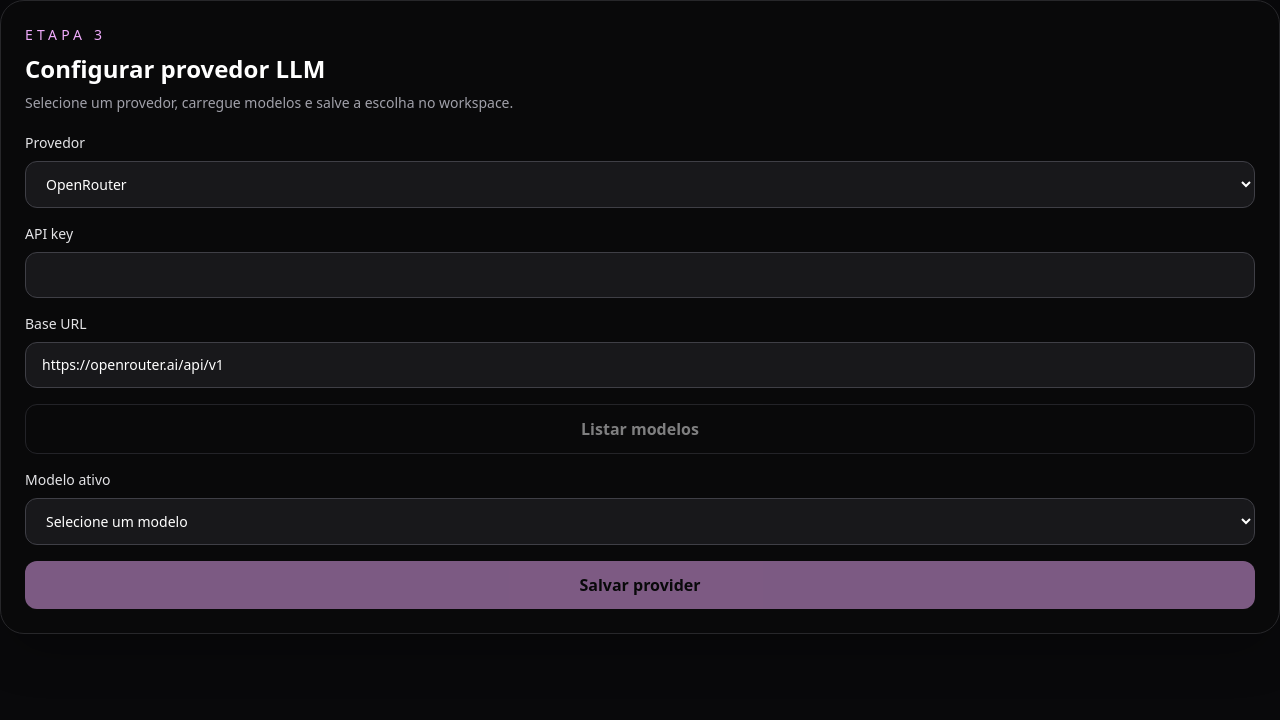
Test case: ProviderPanel › loads models and saves provider config
This screenshot has width=1280, height=720.
In the password field labelled "API key": (640, 275) 25,252 -> 1255,298, type "key"
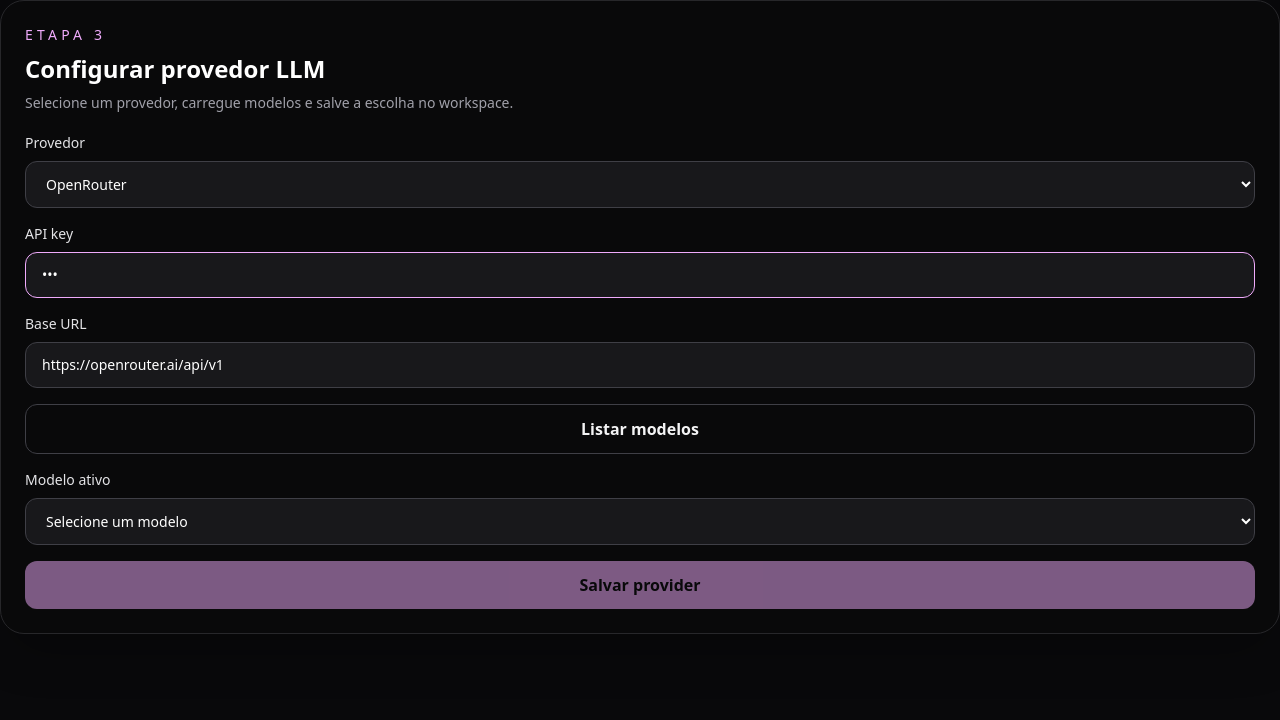
Click the button "Listar modelos": (640, 429) 25,404 -> 1255,454
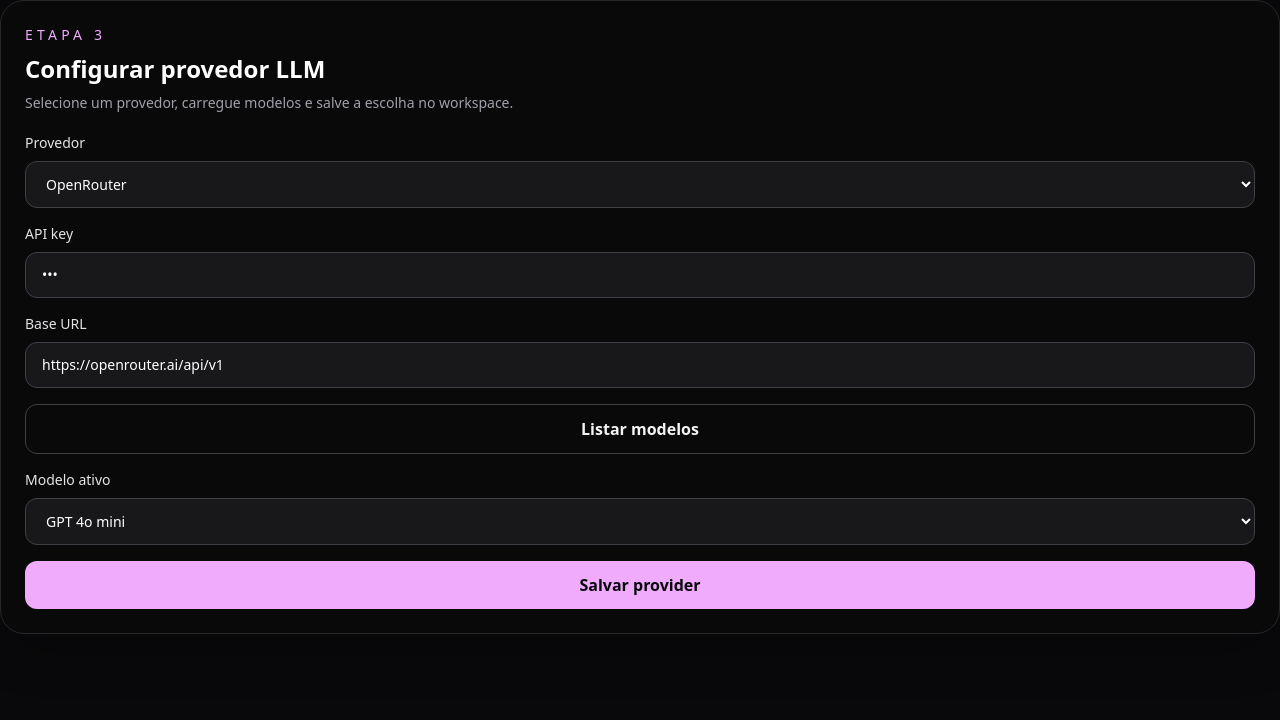
Click the button "Salvar provider": (640, 585) 25,561 -> 1255,609
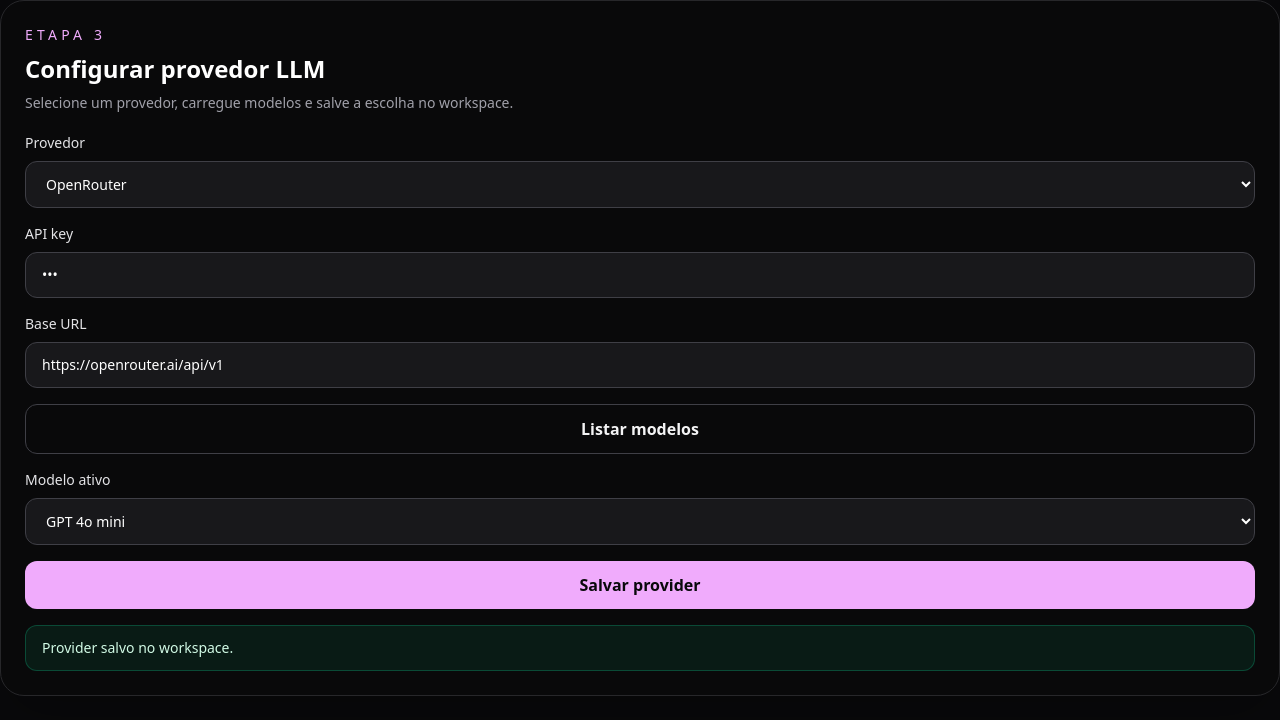
Result: the text "Provider salvo no workspace." is shown at 25,625 -> 1255,671
